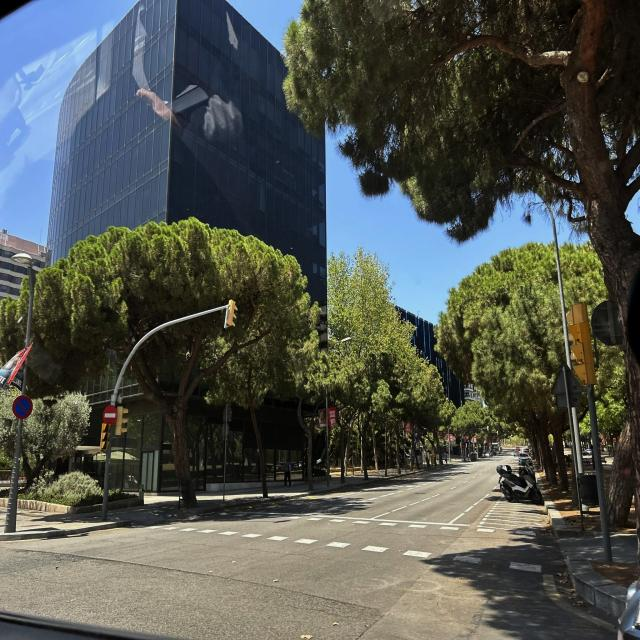bike: (497, 463, 543, 507)
car: (519, 451, 532, 463)
